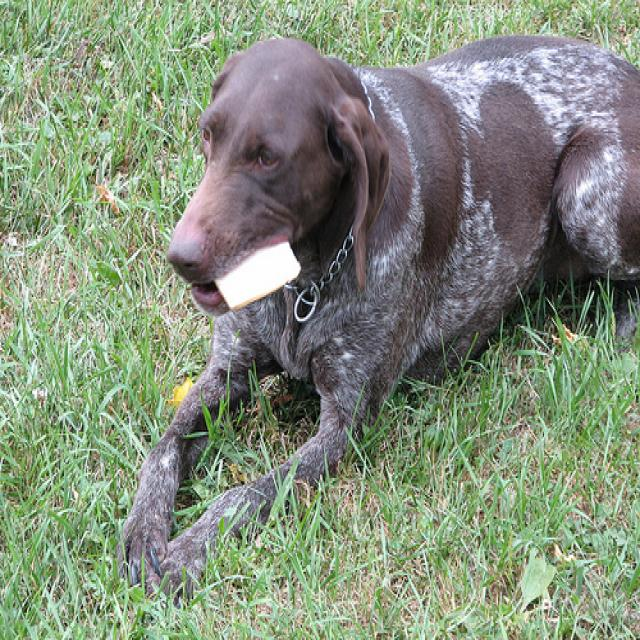dog-german_shorthaired: (106, 20, 637, 620)
